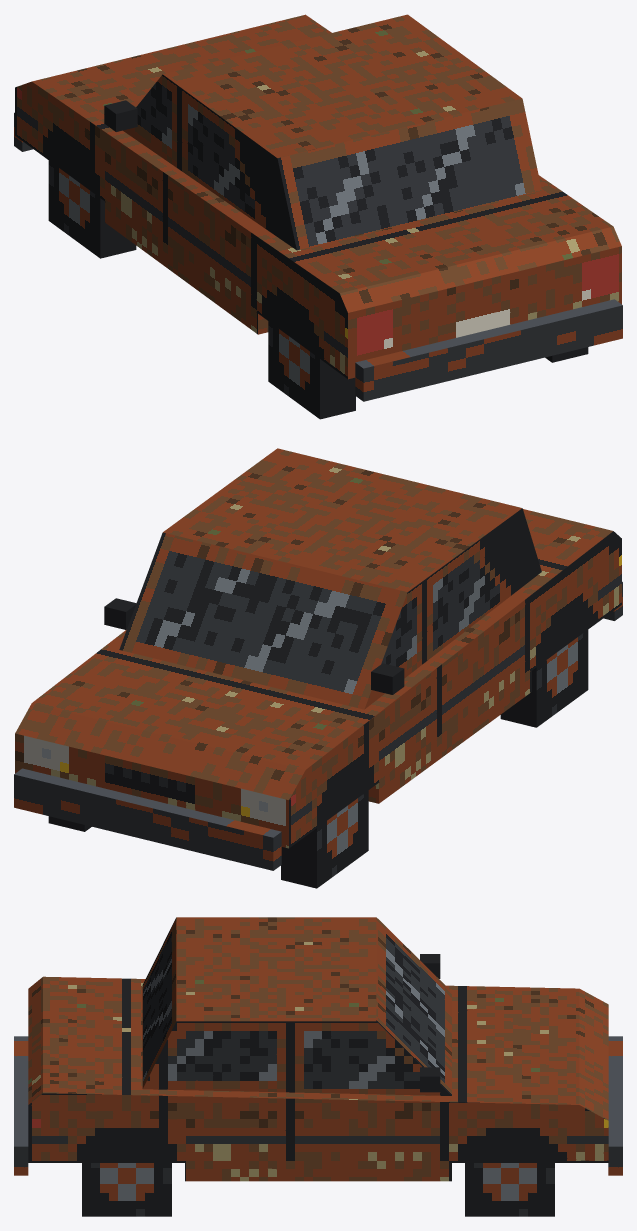
The model's file is car_rust.glb.
3 views of the same model, one above another, from view 1: azimuth 30°, elevation 25°; view 2: azimuth 150°, elevation 25°; view 3: azimuth 270°, elevation 25° (orthographic). The views are drawn at different scales.
Parts seen in each view (by area): view 1: car_rust; view 2: car_rust; view 3: car_rust.
Boxes of the visible parts, bbox=[...] form: car_rust: bbox=[14, 14, 622, 419]; car_rust: bbox=[14, 448, 622, 888]; car_rust: bbox=[14, 917, 622, 1216].
Bounding box in the file's own units: 2 × 1.45 × 4.2.
Materials: 1 (1 with a texture image).
